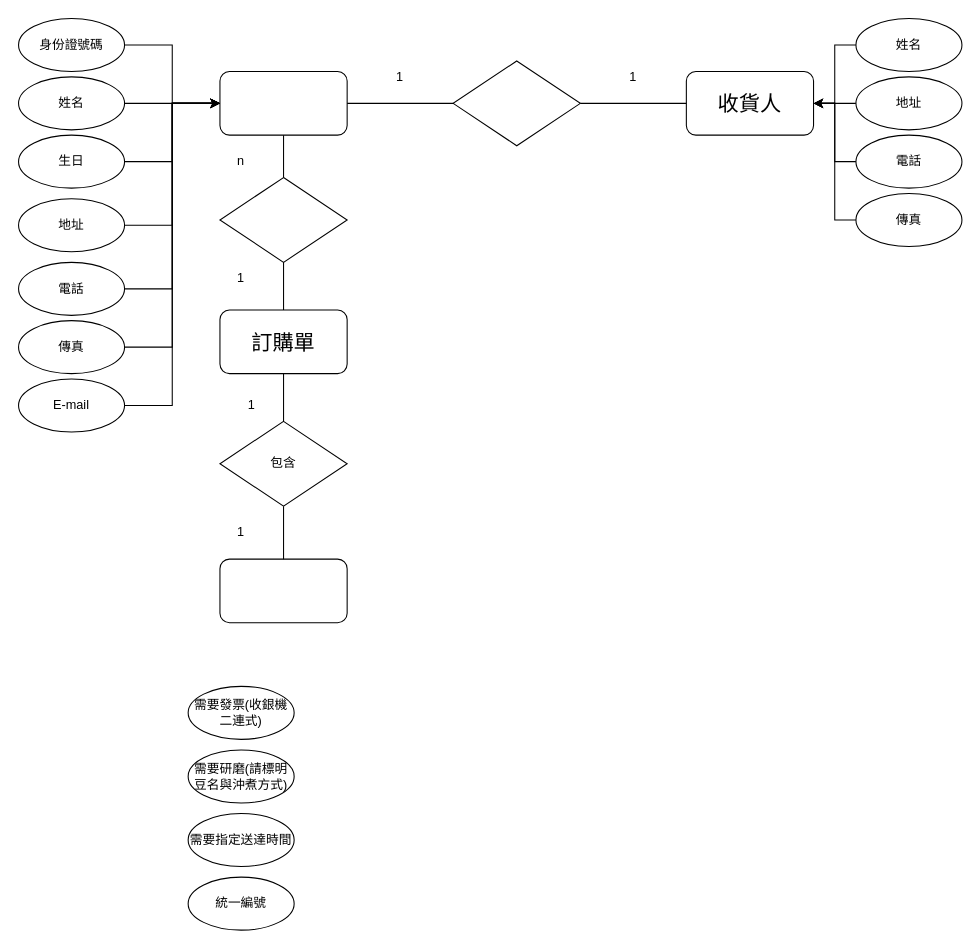
Some shapes in this 980 by 949 pixel diagram are drawn without their labels. The shapes that lost their labels are listed below. From the top down, each one's box as (x1, y1, x2, y2) in pixels, then its label:
(219, 70, 347, 135): 客戶
(452, 60, 580, 146): 送禮
(219, 176, 347, 262): 訂購
(219, 558, 347, 623): 訂單明細
